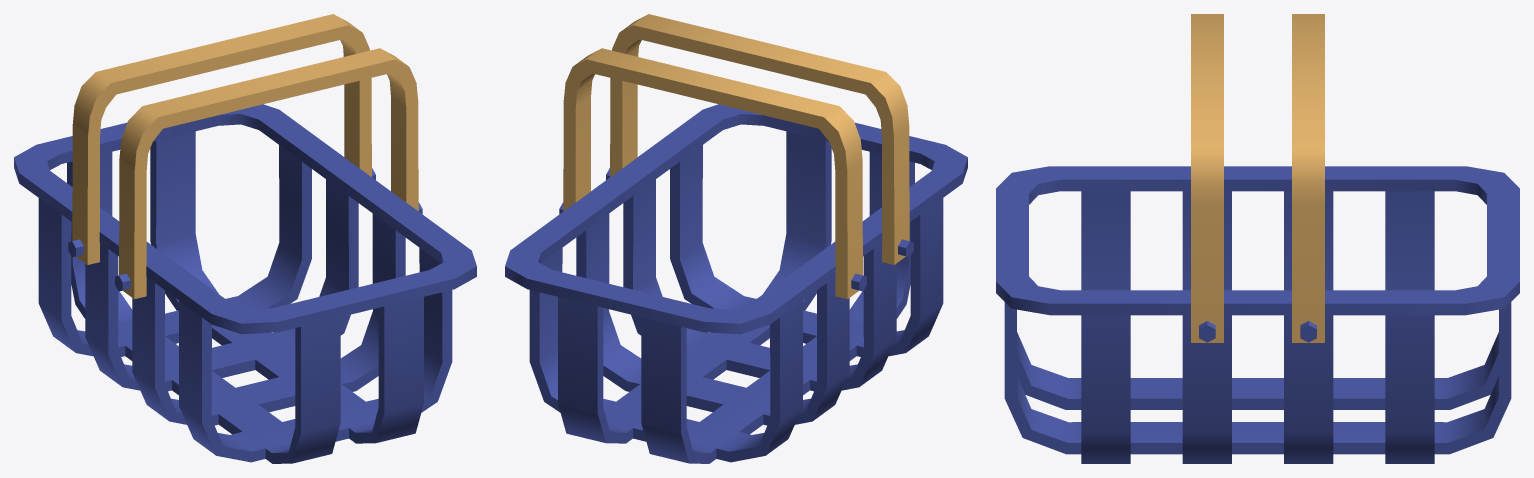
The model's file is ShoppingBasket_01.fbx.
3 renders of one model, left to right at view 1: azimuth 30°, elevation 25°; view 2: azimuth 150°, elevation 25°; view 3: azimuth 270°, elevation 25°, orthographic. The views are drawn at different scales.
Parts seen in each view (by area): view 1: ShoppingBasket_01; view 2: ShoppingBasket_01; view 3: ShoppingBasket_01.
Part boxes in pixels (x1=…): ShoppingBasket_01: x1=14, y1=14, x2=476, y2=463; ShoppingBasket_01: x1=505, y1=14, x2=967, y2=463; ShoppingBasket_01: x1=996, y1=14, x2=1519, y2=463.
Bounding box in the file's own units: 0.2666 × 0.2703 × 0.372.
